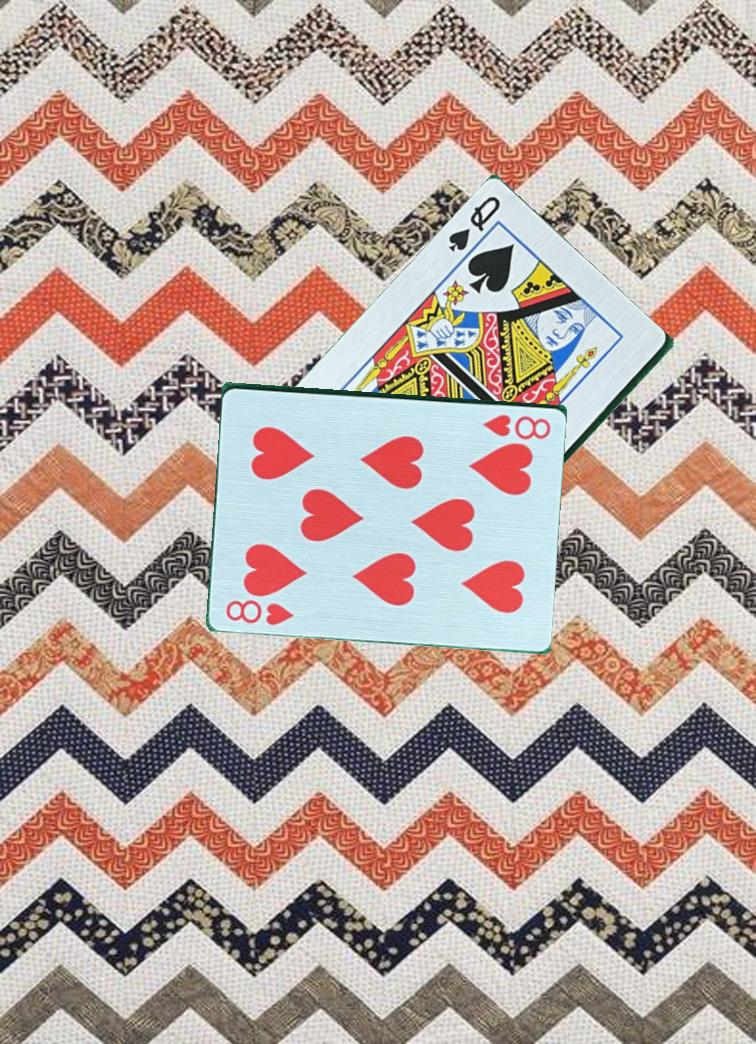8h: (472, 411, 553, 442), (221, 596, 296, 629)
qs: (444, 192, 504, 257)
